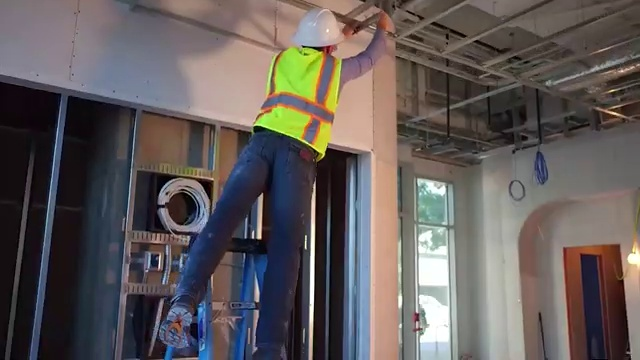helmet: (280, 5, 351, 45)
jacket: (257, 46, 347, 174)
